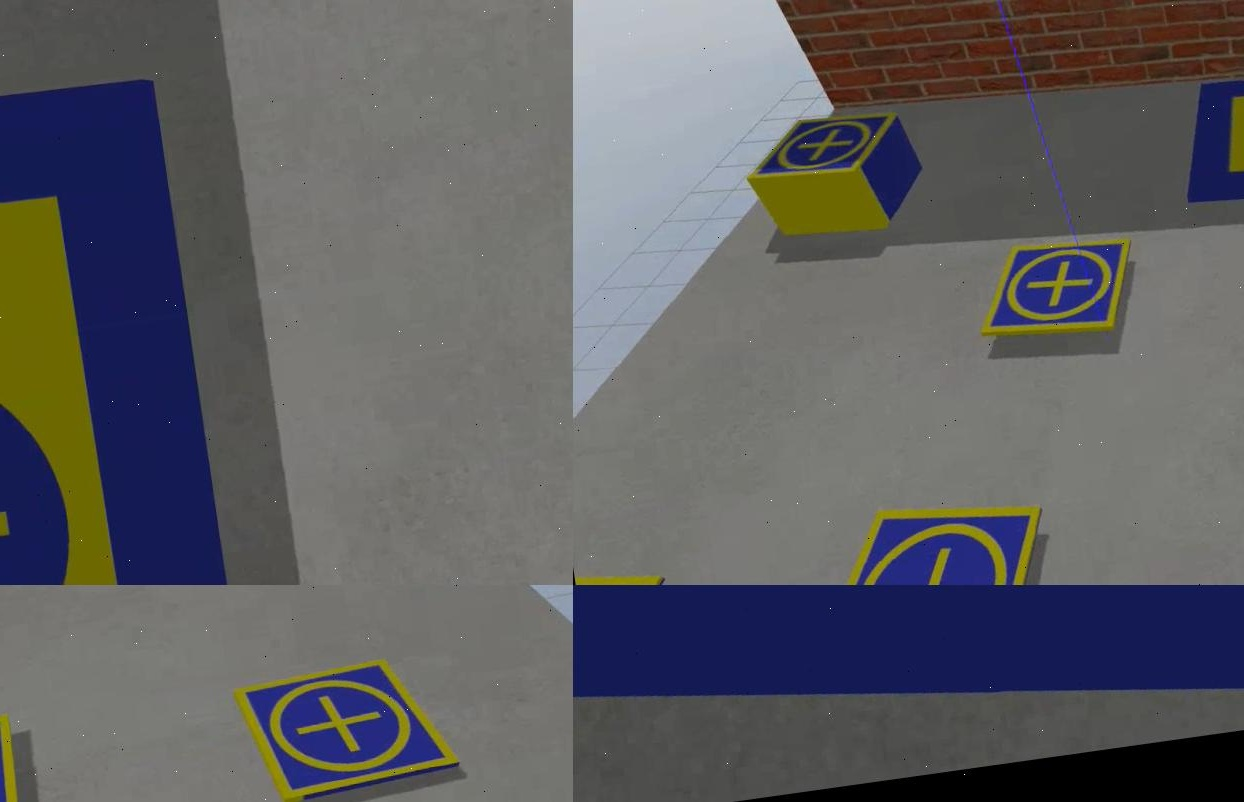large_base: (572, 585, 1242, 802), (0, 68, 234, 585), (1169, 38, 1242, 232)
small_base: (228, 638, 466, 802), (775, 483, 1066, 585), (966, 229, 1143, 355), (739, 107, 904, 192)
